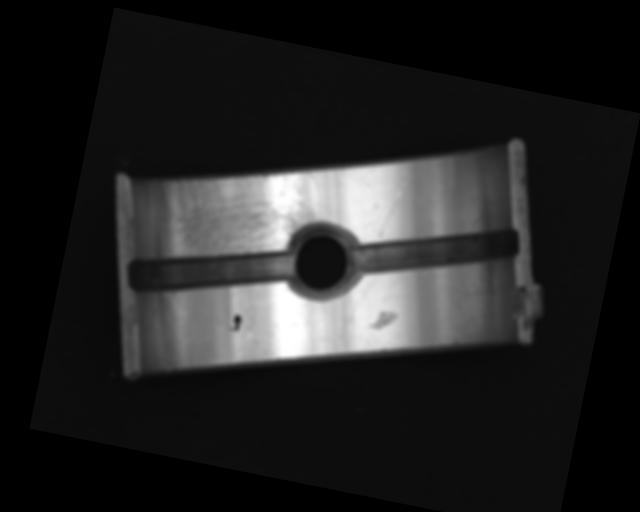blot: (227, 312, 243, 333)
bruise: (369, 306, 399, 333)
gap: (350, 200, 522, 303), (124, 220, 296, 321)
hole: (280, 219, 361, 306)
nick: (378, 180, 405, 240)
scratch: (148, 144, 330, 289)
